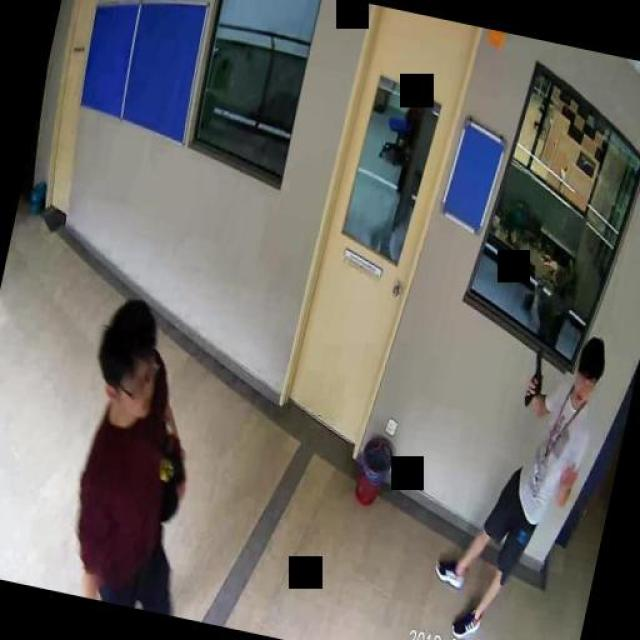gun: (520, 345, 549, 407)
